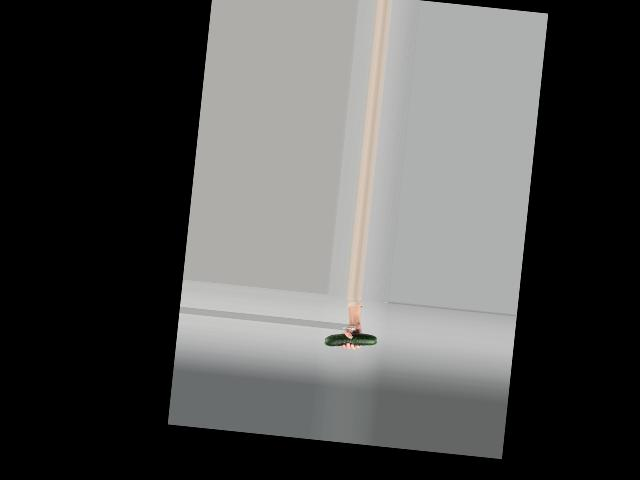cucumber: (323, 329, 376, 350)
